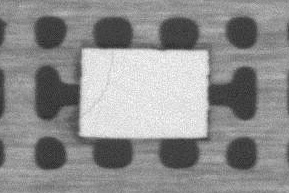DIE_CRACK: (80, 49, 113, 118)
